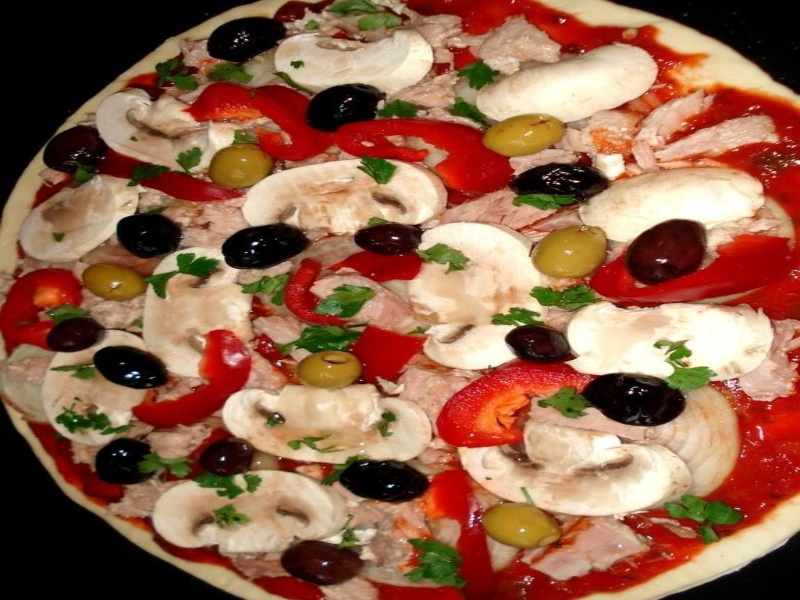champignon: (450, 416, 699, 522), (398, 215, 549, 372), (145, 466, 352, 566), (236, 149, 455, 238), (216, 385, 444, 470)
